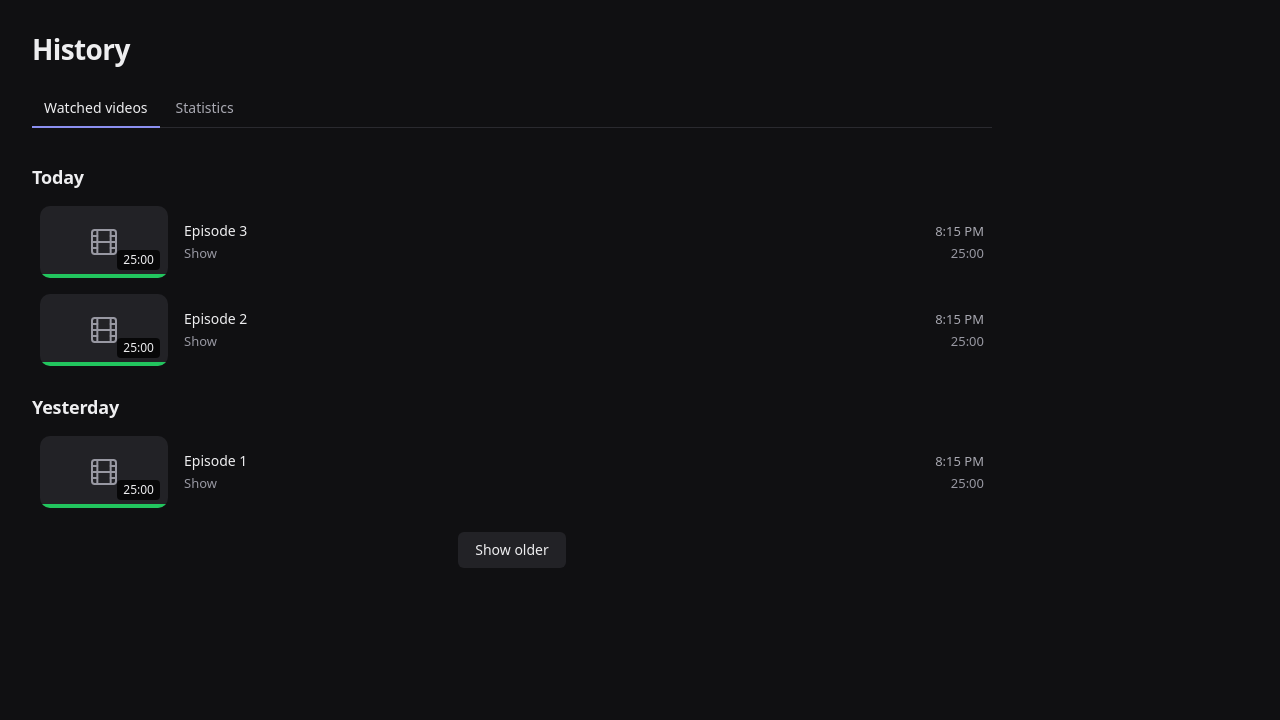
Test case: HistoryPage › says so when older videos cannot be loaded
Click the button "Show older": click(512, 550) [458,532,566,568]
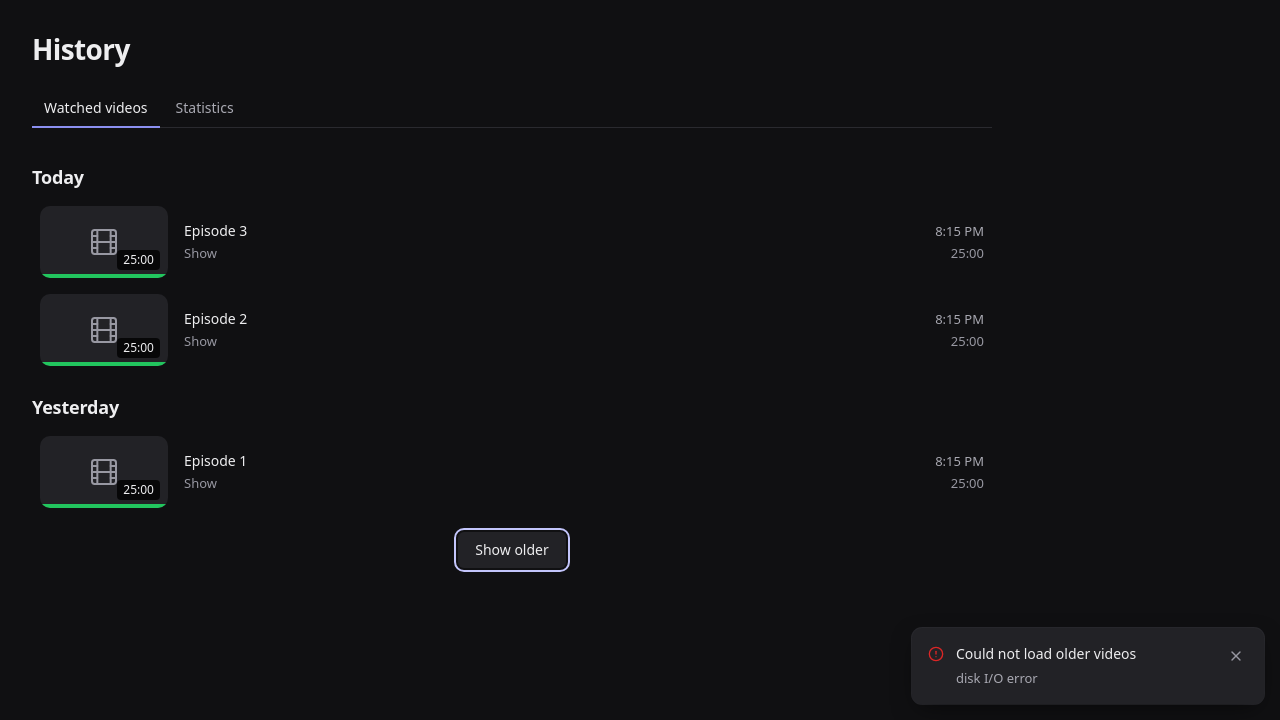
Check: the text "Could not load older videos" is shown, box [956,644,1136,663]
